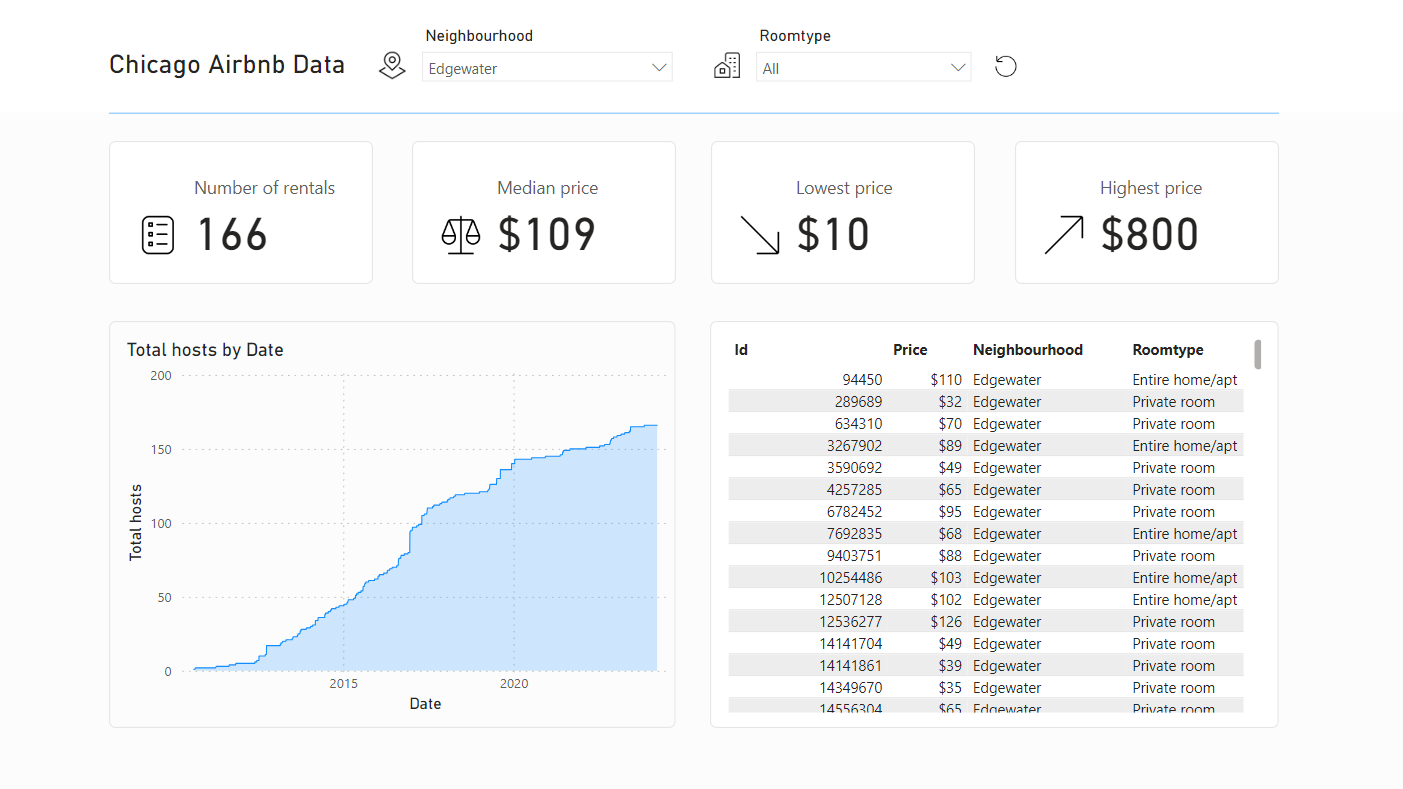

What the dashboard file says about the page in this screenshot:
{"tool":"powerbi","page":{"name":"Report","canvas":[1280,720],"ordinal":0},"visuals":[{"type":"shape","box":[0,0,1280,103.3],"z":0,"group":"g1"},{"type":"cardVisual","title":"Count of locations","fields":{"Data":["CountNonNull(listing.id)"]},"box":[102,129,240,130],"z":1000},{"type":"slicer","fields":{"Values":["neighbourhoods.neighbourhood"]},"box":[376.4,20,248.2,74.5],"z":2000,"group":"g1"},{"type":"slicer","fields":{"Values":["roomtypes.roomtype"]},"box":[680,20,216.4,74.5],"z":3000,"group":"g1"},{"type":"cardVisual","title":"Count of locations","fields":{"Data":["Min(listing.price)"]},"box":[649,129,240,130],"z":4000},{"type":"cardVisual","title":"Count of locations","fields":{"Data":["Max(listing.price)"]},"box":[925,129,240,130],"z":5000},{"type":"cardVisual","title":"Count of locations","fields":{"Data":["Median(listing.price)"]},"box":[377,129,240,130],"z":6000},{"type":"lineChart","fields":{"Y":["hosts.RunningTotalHosts2"],"Category":["hosts.host_since"]},"box":[101.8,292.9,515.3,370],"z":7000},{"type":"actionButton","title":"Chicago Airbnb Data","box":[102,45,227,32],"z":8000,"group":"g1"},{"type":"image","box":[903,43,29,36],"z":9000,"group":"g1"},{"type":"image","box":[647.3,43.6,32.7,33.6],"z":10000,"group":"g1"},{"type":"image","box":[342.1,40.8,34.6,38.1],"z":11000,"group":"g1"},{"type":"tableEx","fields":{"Values":["listing.id","listing.price","neighbourhoods.neighbourhood","roomtypes.roomtype"]},"box":[648,293,517,370],"z":12000},{"type":"shape","box":[101.8,97.1,1063.5,12.9],"z":13000},{"type":"group","id":"g1","title":"Group 1","box":[0,0,1280,103.3],"z":13001}]}

Visuals, with their boxes in screenshot pixels (x1, y1, x2, y2), scaled from the page's 1280x720 canvas onto the 1403x789 screenshot:
shape: Rect(0, 0, 1402, 113)
"Count of locations" cardVisual: Rect(112, 141, 375, 284)
slicer - neighbourhoods.neighbourhood: Rect(413, 22, 685, 104)
slicer - roomtypes.roomtype: Rect(745, 22, 983, 104)
"Count of locations" cardVisual: Rect(711, 141, 974, 284)
"Count of locations" cardVisual: Rect(1014, 141, 1277, 284)
"Count of locations" cardVisual: Rect(413, 141, 676, 284)
lineChart - hosts.RunningTotalHosts2 x hosts.host_since: Rect(112, 321, 676, 726)
"Chicago Airbnb Data" actionButton: Rect(112, 49, 361, 84)
image: Rect(990, 47, 1022, 87)
image: Rect(710, 48, 745, 85)
image: Rect(375, 45, 413, 86)
tableEx - listing.id x listing.price: Rect(710, 321, 1277, 727)
shape: Rect(112, 106, 1277, 121)
"Group 1" group: Rect(0, 0, 1402, 113)
